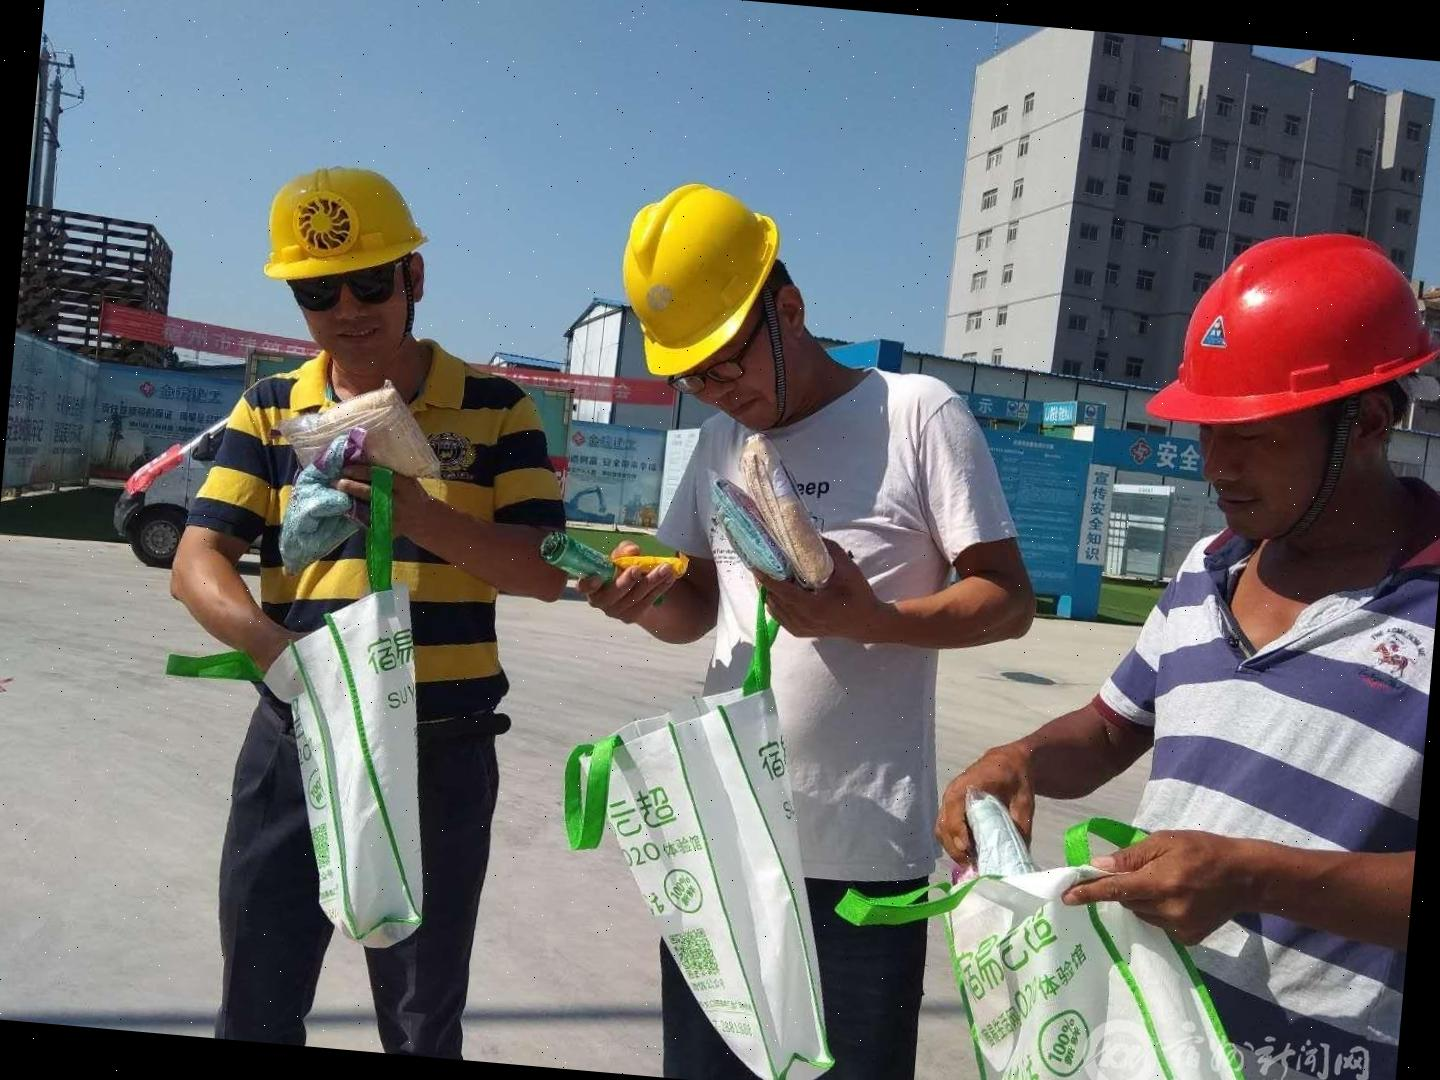helmet: (1146, 222, 1440, 453), (605, 180, 790, 397), (249, 154, 442, 296)
no_wear: (1127, 550, 1440, 1066), (655, 414, 957, 898), (226, 340, 534, 743)
